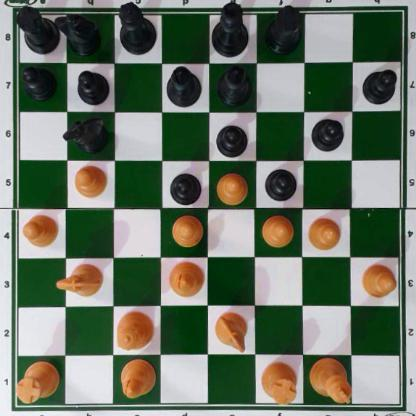black-bishop: (216, 65, 253, 106), (166, 65, 202, 106)
black-king: (213, 1, 249, 59)
black-knight: (57, 11, 99, 57), (62, 115, 109, 153)
black-pawn: (362, 69, 398, 105), (21, 65, 56, 101), (311, 116, 344, 152), (215, 123, 249, 157), (76, 68, 107, 105), (265, 166, 297, 201), (170, 170, 202, 204)
black-queen: (114, 2, 157, 56)
black-rook: (13, 5, 62, 53), (265, 3, 304, 56)
white-bishop: (120, 357, 155, 398), (169, 259, 205, 296)
white-king: (309, 356, 352, 405)
white-knight: (55, 263, 104, 297), (214, 311, 250, 352)
white-pawn: (361, 262, 397, 299), (307, 213, 340, 251), (22, 213, 58, 247), (261, 213, 294, 247), (73, 164, 106, 198), (215, 171, 249, 203), (171, 213, 203, 247)
white-queen: (117, 307, 153, 352)
white-rook: (15, 359, 62, 402), (260, 360, 300, 405)
